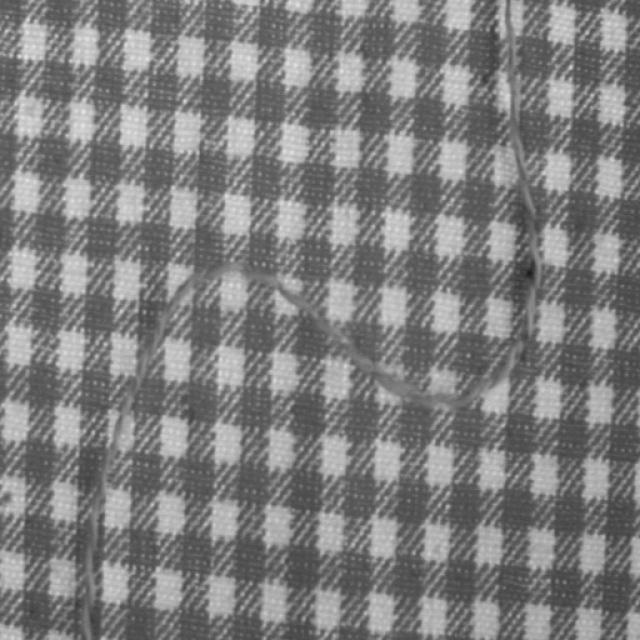Foreign-Body-Defect: (78, 3, 563, 639)
